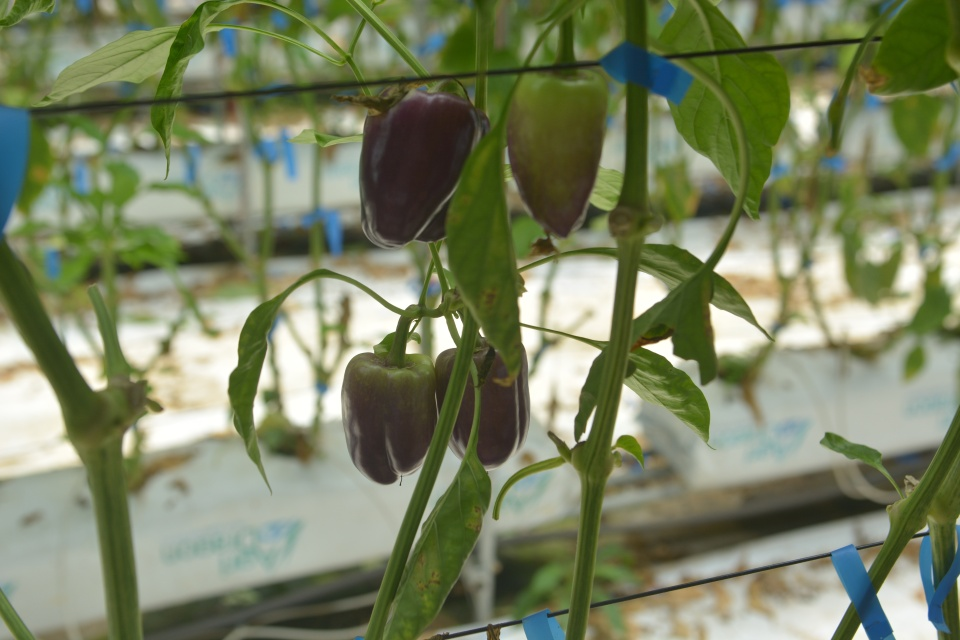fruit: (354, 85, 492, 251), (336, 347, 438, 486), (433, 335, 533, 470)
immature: (504, 59, 614, 240)
pedicle: (377, 358, 413, 368)
